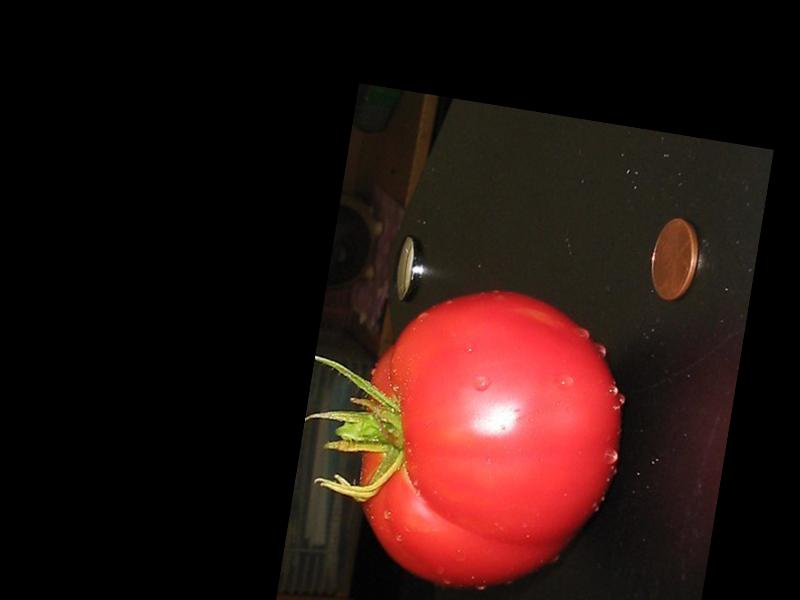Tomato: (338, 272, 641, 600)
